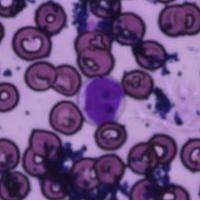L: (77, 74, 125, 126)
